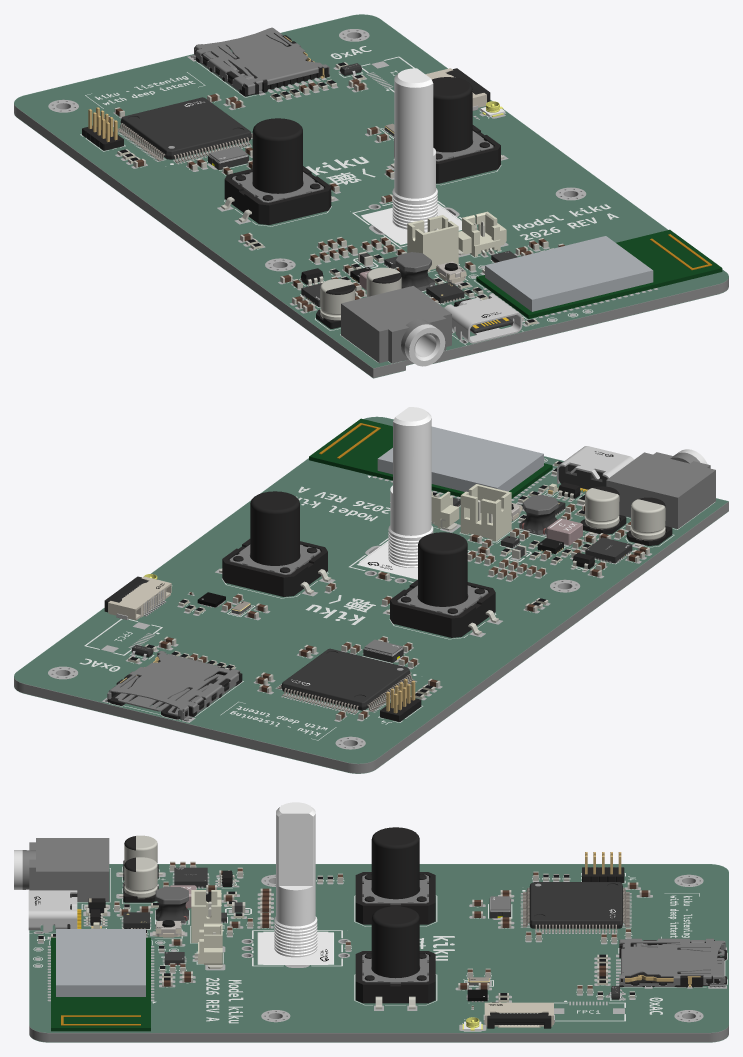
File: board.glb
The picture shows the model from 3 angles, top to bottom: view 1: azimuth 30°, elevation 25°; view 2: azimuth 150°, elevation 25°; view 3: azimuth 270°, elevation 25°; orthographic projection. The views are drawn at different scales.
Visible parts, largest first — view 1: =>[0:1:1:38], =>[0:1:1:39], rf_shield, SW3, SW2, J6, U10, J2, SW4, module_pcb, =>[0:1:1:36], =>[0:1:1:37] (+9 smaller); view 2: =>[0:1:1:38], =>[0:1:1:39], SW3, SW4, SW2, J2, J6, rf_shield, U10, =>[0:1:1:36], module_pcb, =>[0:1:1:37] (+11 smaller); view 3: =>[0:1:1:38], =>[0:1:1:39], SW2, SW4, rf_shield, SW3, J6, J2, U10, =>[0:1:1:36], module_pcb, =>[0:1:1:37] (+12 smaller).
Boxes of the visible parts, <box> form: =>[0:1:1:38]: <box>14,14,728,378</box>; =>[0:1:1:39]: <box>14,15,728,378</box>; rf_shield: <box>485,236,653,311</box>; SW3: <box>221,118,334,224</box>; SW2: <box>361,68,461,244</box>; J6: <box>341,286,451,366</box>; U10: <box>117,97,252,163</box>; J2: <box>190,27,329,96</box>; SW4: <box>390,77,504,183</box>; module_pcb: <box>476,229,722,318</box>; =>[0:1:1:36]: <box>48,29,657,343</box>; =>[0:1:1:37]: <box>80,46,618,363</box>; =>[0:1:1:38]: <box>14,416,728,773</box>; =>[0:1:1:39]: <box>14,417,728,773</box>; SW3: <box>386,532,498,637</box>; SW4: <box>219,491,331,596</box>; SW2: <box>357,407,433,579</box>; J2: <box>105,651,242,721</box>; J6: <box>606,449,715,528</box>; rf_shield: <box>377,426,543,491</box>; U10: <box>277,648,415,713</box>; =>[0:1:1:36]: <box>48,459,651,749</box>; module_pcb: <box>309,418,552,498</box>; =>[0:1:1:37]: <box>79,458,714,740</box>; =>[0:1:1:38]: <box>29,864,728,1042</box>; =>[0:1:1:39]: <box>29,865,728,1042</box>; SW2: <box>257,802,333,966</box>; SW4: <box>355,906,435,1009</box>; rf_shield: <box>56,929,145,996</box>; SW3: <box>355,827,435,924</box>; J6: <box>14,838,109,901</box>; J2: <box>619,938,726,987</box>; U10: <box>523,882,629,932</box>; =>[0:1:1:36]: <box>33,866,726,1030</box>; module_pcb: <box>51,937,150,1031</box>; =>[0:1:1:37]: <box>29,866,727,1031</box>.
Bounding box in the file's own units: 0.06 × 0.0312 × 0.1073.
